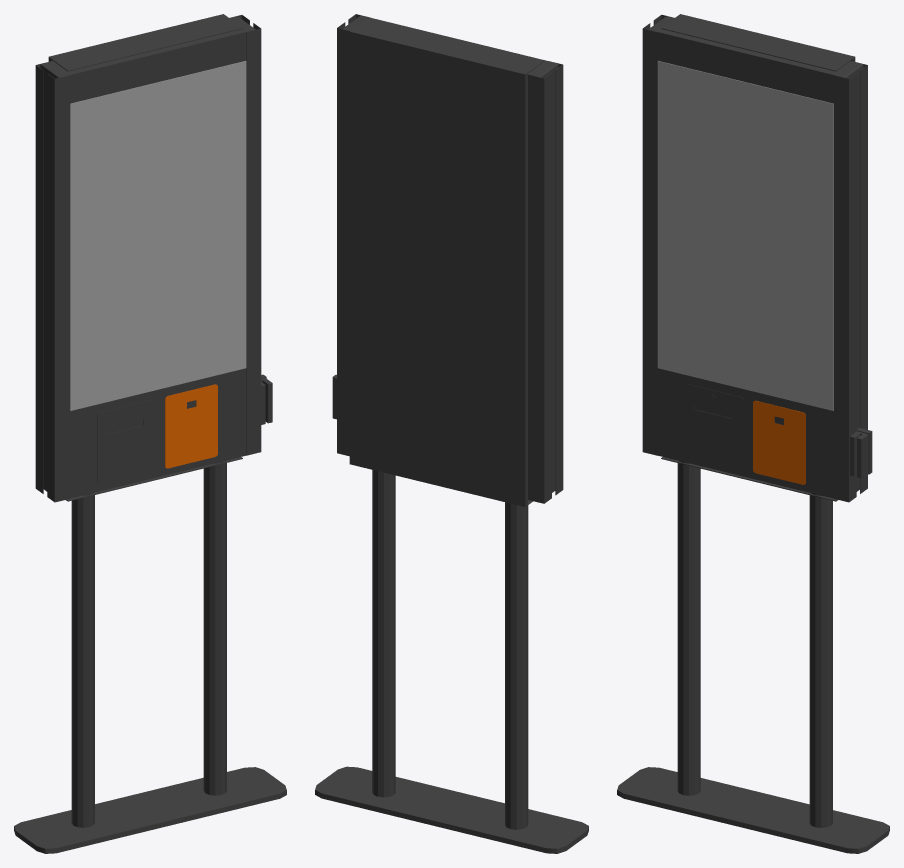
Rendered from UTC-723st.fbx.
The picture shows the model from 3 angles, left to right: view 1: azimuth 30°, elevation 25°; view 2: azimuth 150°, elevation 25°; view 3: azimuth 330°, elevation 25°; orthographic projection.
Parts seen in each view (by area): view 1: A, C, B; view 2: B, C, A; view 3: A, C, B.
Boxes of the visible parts, x1,y1,x2,y2 form: A: (35,15,272,502); C: (14,460,286,853); B: (48,14,242,501); B: (349,17,544,506); C: (315,470,588,853); A: (332,14,563,503); A: (642,14,872,502); C: (617,461,889,853); B: (661,14,855,501).
Bounding box in the file's own units: 64.16 × 189 × 15.86.
